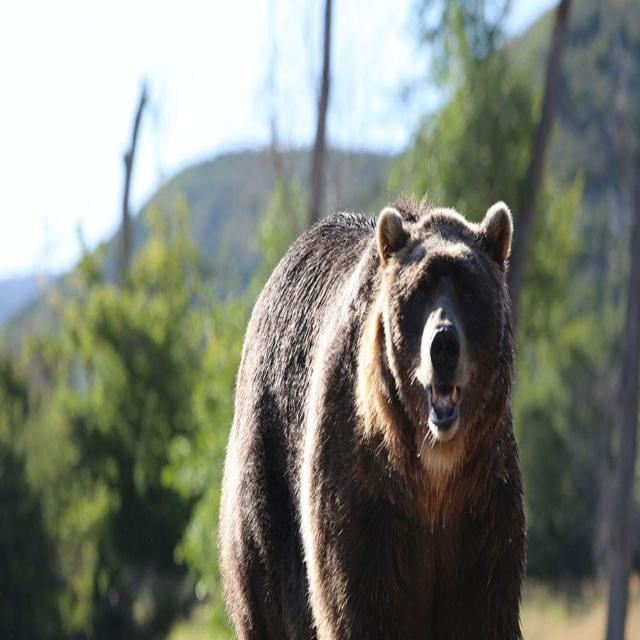Bear: (216, 202, 527, 640)
